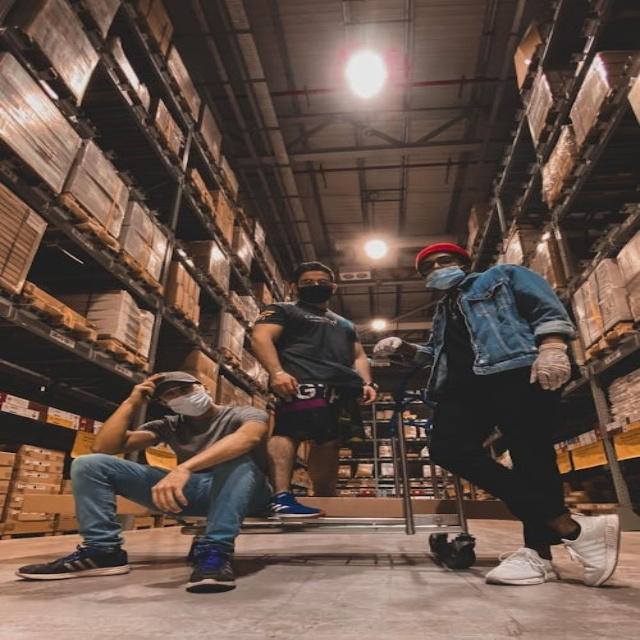Gafas: (420, 256, 463, 276), (155, 384, 197, 401), (297, 278, 334, 287)
Guantes: (530, 344, 572, 390), (373, 336, 404, 358)
Mascara: (160, 386, 212, 416), (424, 265, 468, 290), (296, 283, 336, 304)
Sin_gafas: (419, 254, 463, 277)
Sin_guantes: (150, 469, 195, 512), (125, 365, 172, 402), (270, 375, 299, 398), (358, 382, 378, 405)
